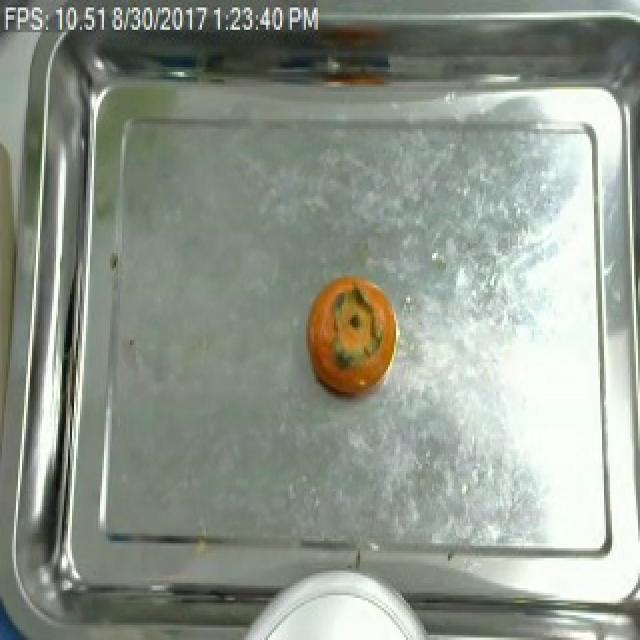Fruit: (304, 273, 400, 397)
